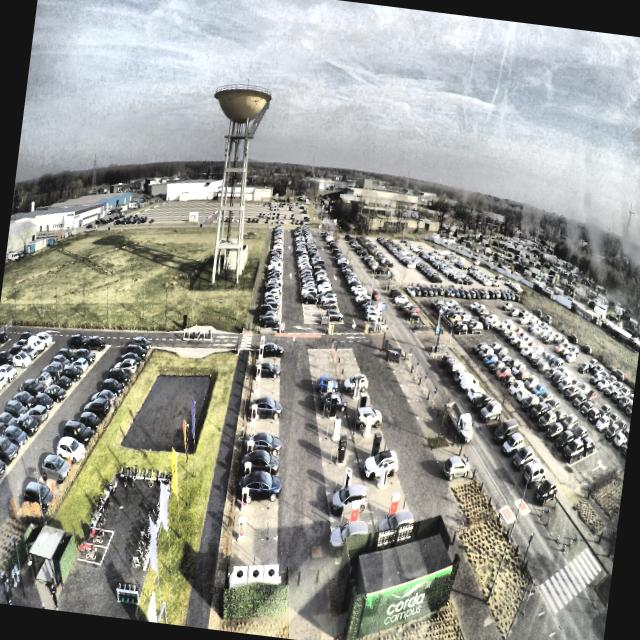cabinet: (232, 564, 278, 581)
car: (240, 469, 281, 505), (242, 450, 279, 476), (251, 395, 283, 420), (246, 433, 282, 453), (259, 341, 285, 358), (253, 361, 281, 375)
parking: (233, 506, 277, 539), (230, 538, 276, 568), (236, 480, 277, 508), (239, 459, 278, 482), (242, 440, 279, 461), (244, 422, 279, 440), (247, 406, 279, 422), (249, 392, 279, 406), (251, 380, 279, 393), (253, 369, 280, 380), (254, 359, 280, 369), (256, 349, 280, 359)
supercharger: (238, 517, 246, 539), (241, 488, 249, 509), (244, 462, 251, 481), (251, 405, 257, 422), (247, 441, 253, 456), (249, 422, 255, 437), (253, 390, 258, 404), (255, 377, 260, 390), (256, 365, 261, 376), (259, 345, 264, 355), (258, 354, 262, 365), (261, 336, 265, 345)
